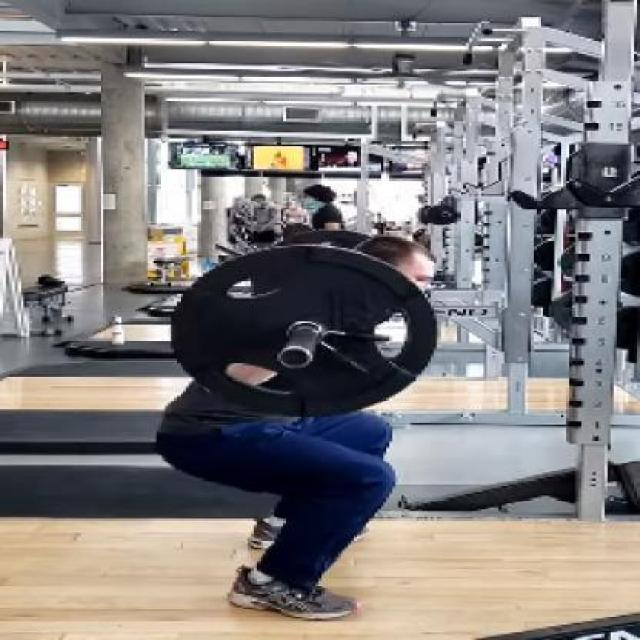barbell: (167, 238, 442, 421)
